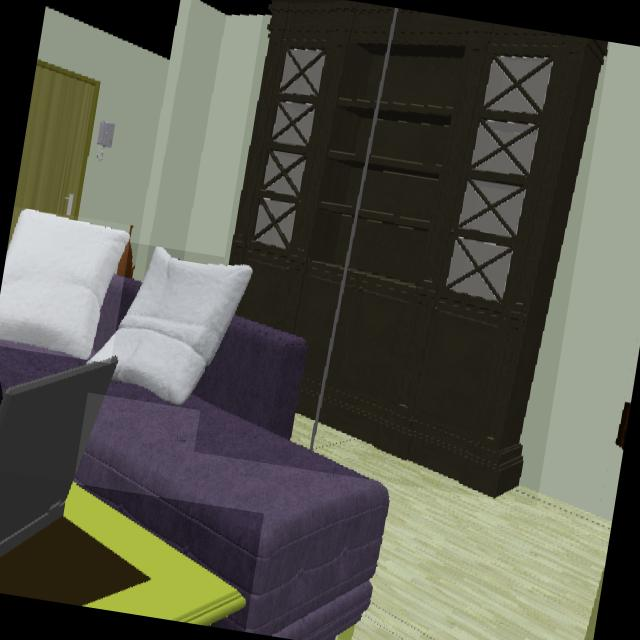bookshelf: (229, 0, 610, 500)
laptop: (0, 357, 118, 565)
pillow: (88, 247, 253, 406), (0, 208, 131, 360)
sofa: (74, 317, 390, 640)
table: (0, 484, 249, 628)
